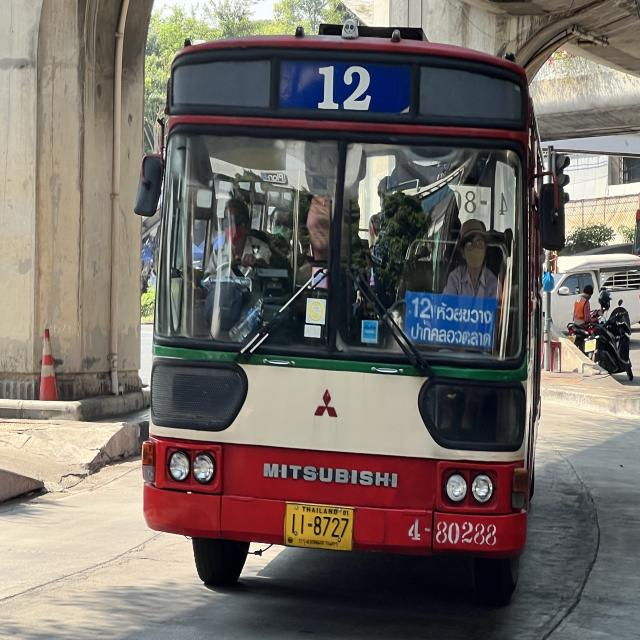BMTA-bus: (137, 33, 542, 607)
Bus-Line-Number: (274, 61, 419, 123)
Destination-Sign-Normal: (402, 290, 501, 356)
